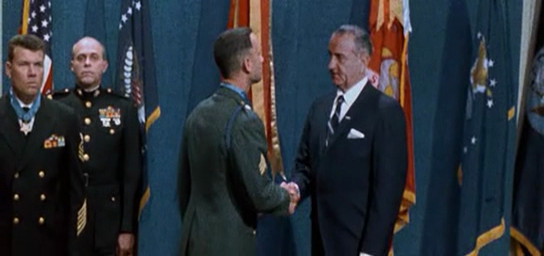face: (14, 52, 45, 97), (327, 43, 353, 87), (75, 47, 103, 84)
ms: (1, 1, 544, 256)
person: (288, 24, 408, 256), (176, 27, 297, 256), (42, 35, 150, 256), (1, 32, 88, 256)
